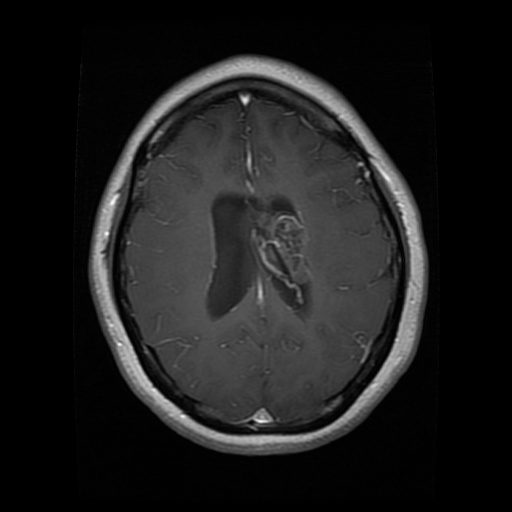glioma: (242, 208, 312, 292)
